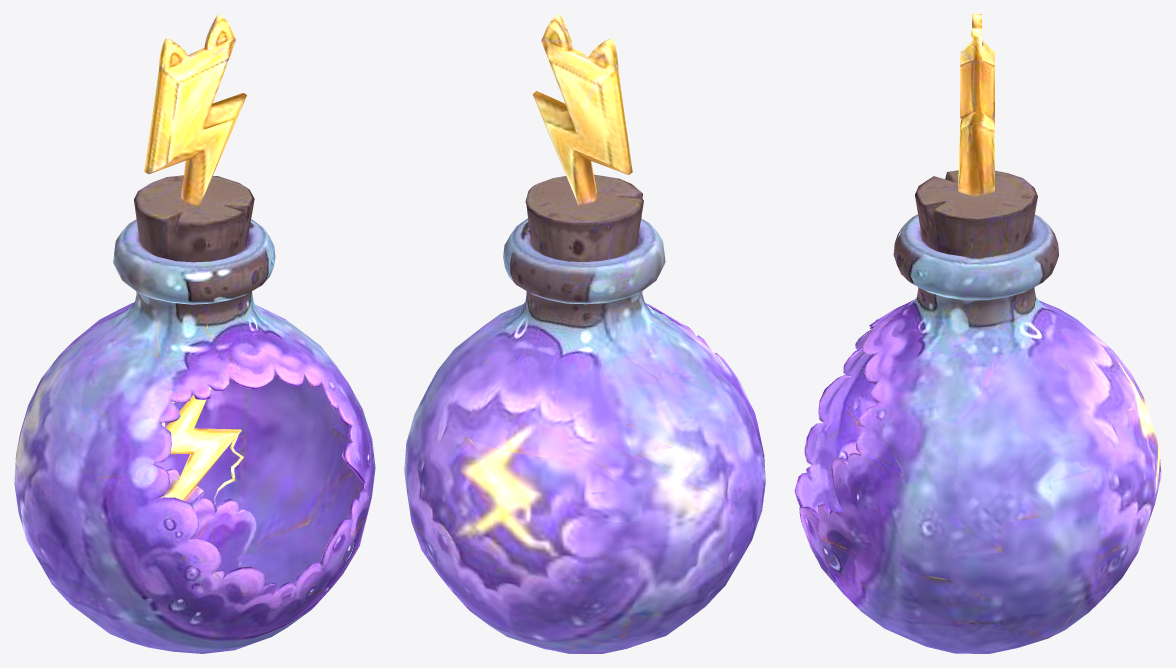
The model's file is pickup_storm.glb.
3 renders of one model, left to right at view 1: azimuth 30°, elevation 25°; view 2: azimuth 150°, elevation 25°; view 3: azimuth 270°, elevation 25°, orthographic.
Visible parts, largest first — view 1: pickup_storm; view 2: pickup_storm; view 3: pickup_storm.
Part boxes in pixels (<box>): pickup_storm: <box>14,14,375,653</box>; pickup_storm: <box>404,14,765,653</box>; pickup_storm: <box>794,14,1161,653</box>.
Size of the model in its own units: 0.5274 by 1 by 0.5336.
1 material, 1 textured.
